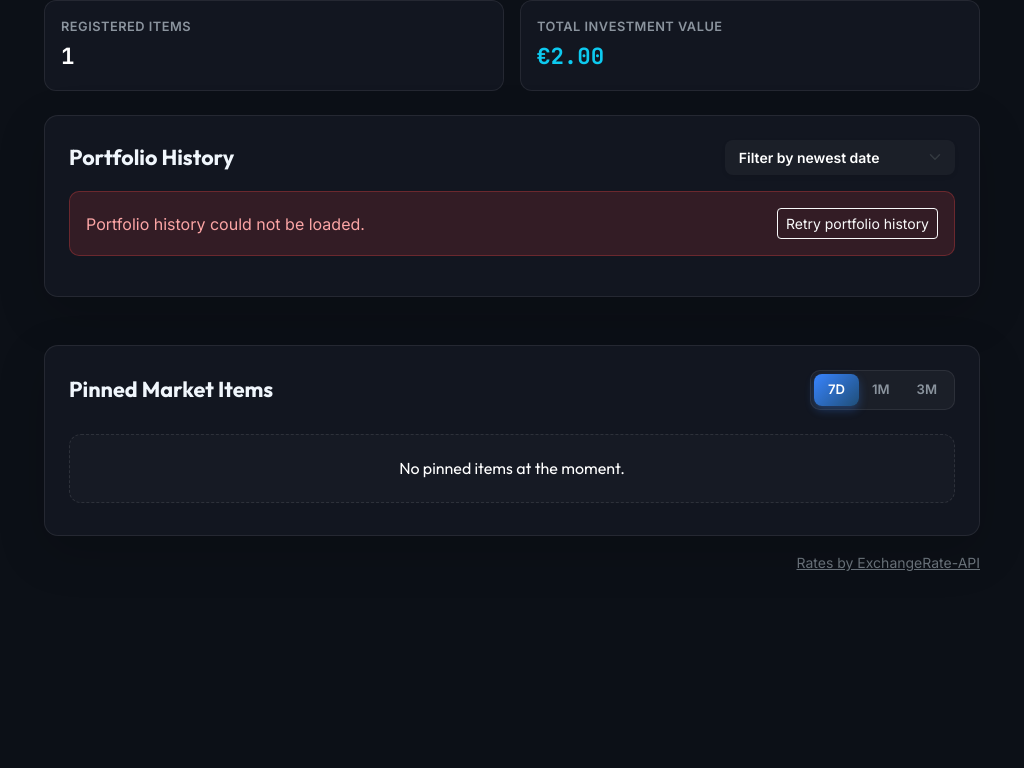
Test: failed loading is not an empty portfolio and a retry can recover
The width and height of the screenshot is (1024, 768).
Expected: the message shows "Portfolio history could not be loaded", x1=86 y1=214 x2=365 y2=234
What coordinates should you click on to do the following:
click the button "Retry portfolio history"
I would click on:
 (857, 224)
Its box is x1=777 y1=208 x2=938 y2=239.
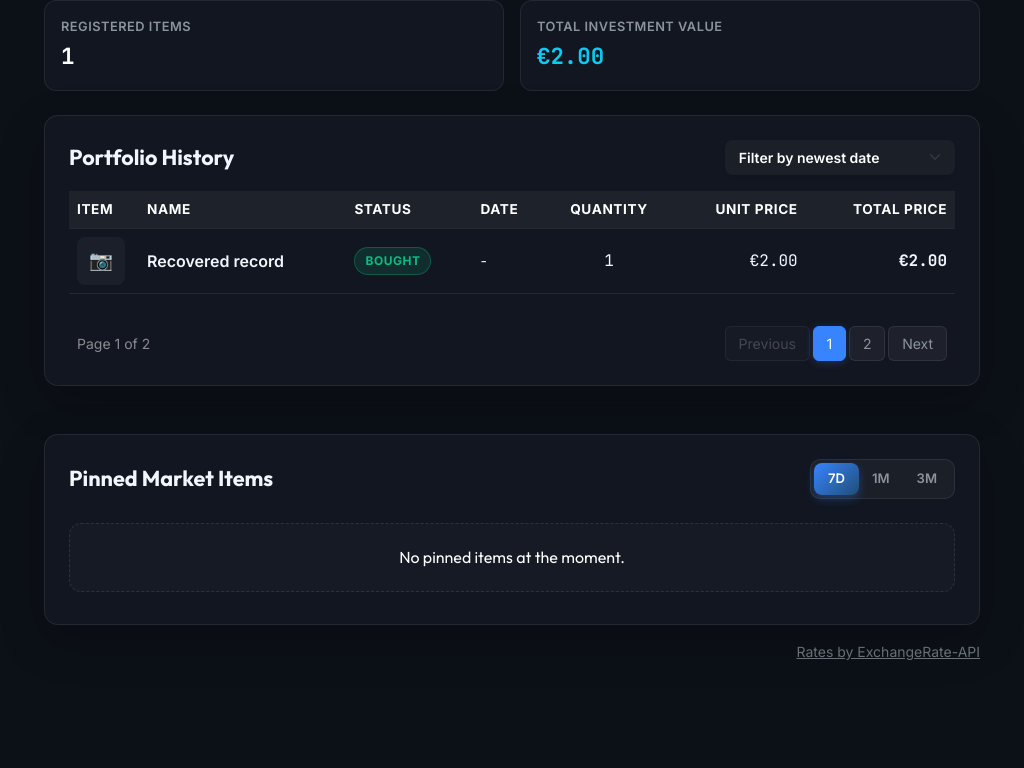
Expected: the button "Recovered record" is shown, x1=147 y1=249 x2=284 y2=273
